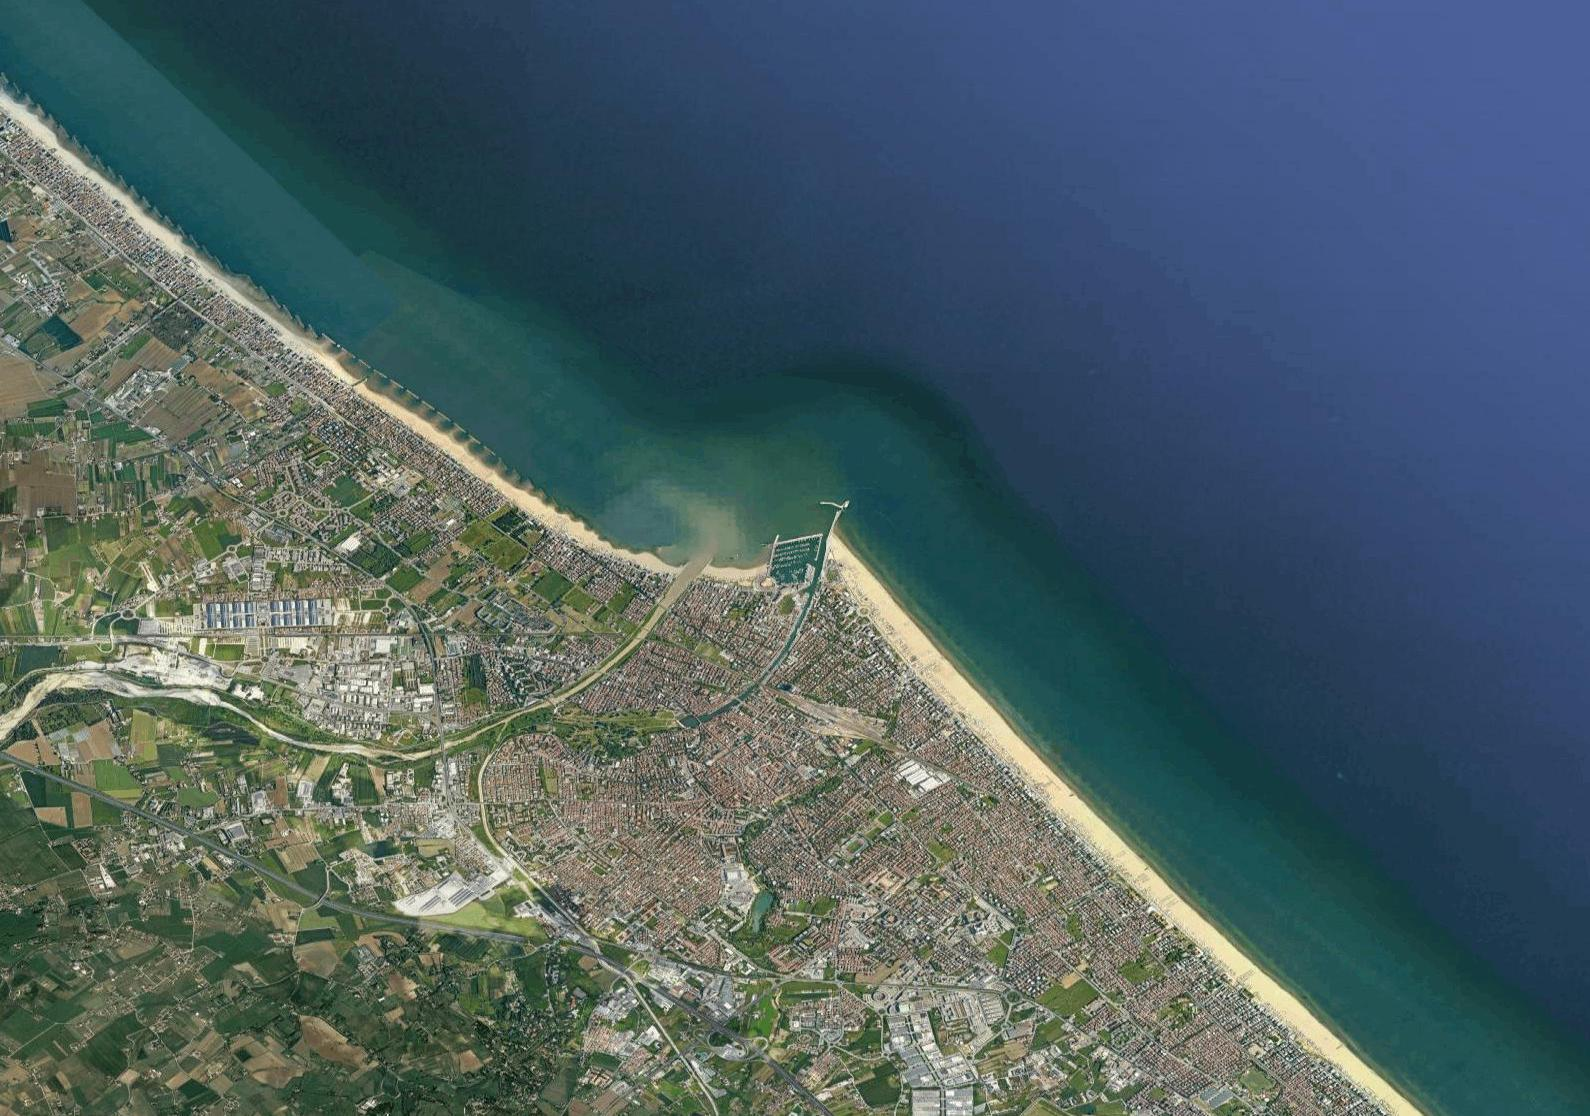harbor: (752, 487, 852, 588)
industrial: (888, 1012, 968, 1116), (327, 638, 397, 734)
motorway: (220, 845, 330, 903), (1, 746, 111, 803), (112, 800, 222, 856), (331, 897, 472, 936), (475, 926, 524, 944)
